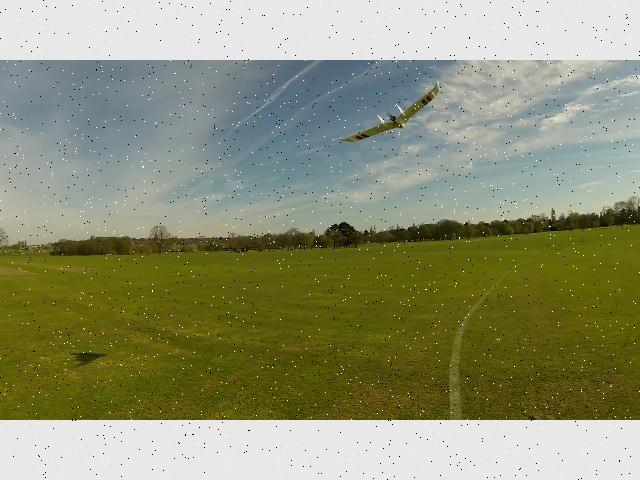Anti-Drone: (322, 74, 476, 158)
